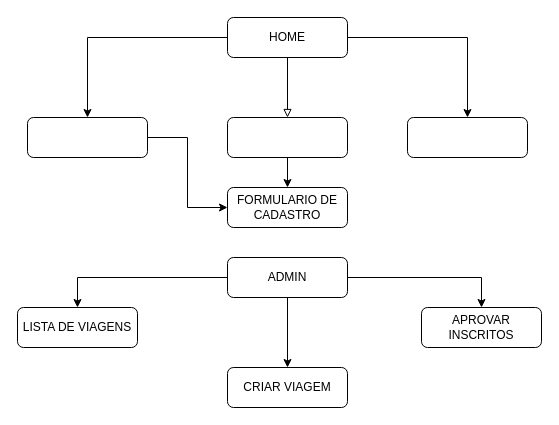
Some shapes in this 559 by 425 pixel diagram are drawn without their labels. The centre of each missing label's shape, as x and y in pixels:
DUVIDAS: the point at 467,137
INSCREVA-SE: the point at 287,137
Lista de destinos: the point at 87,137
